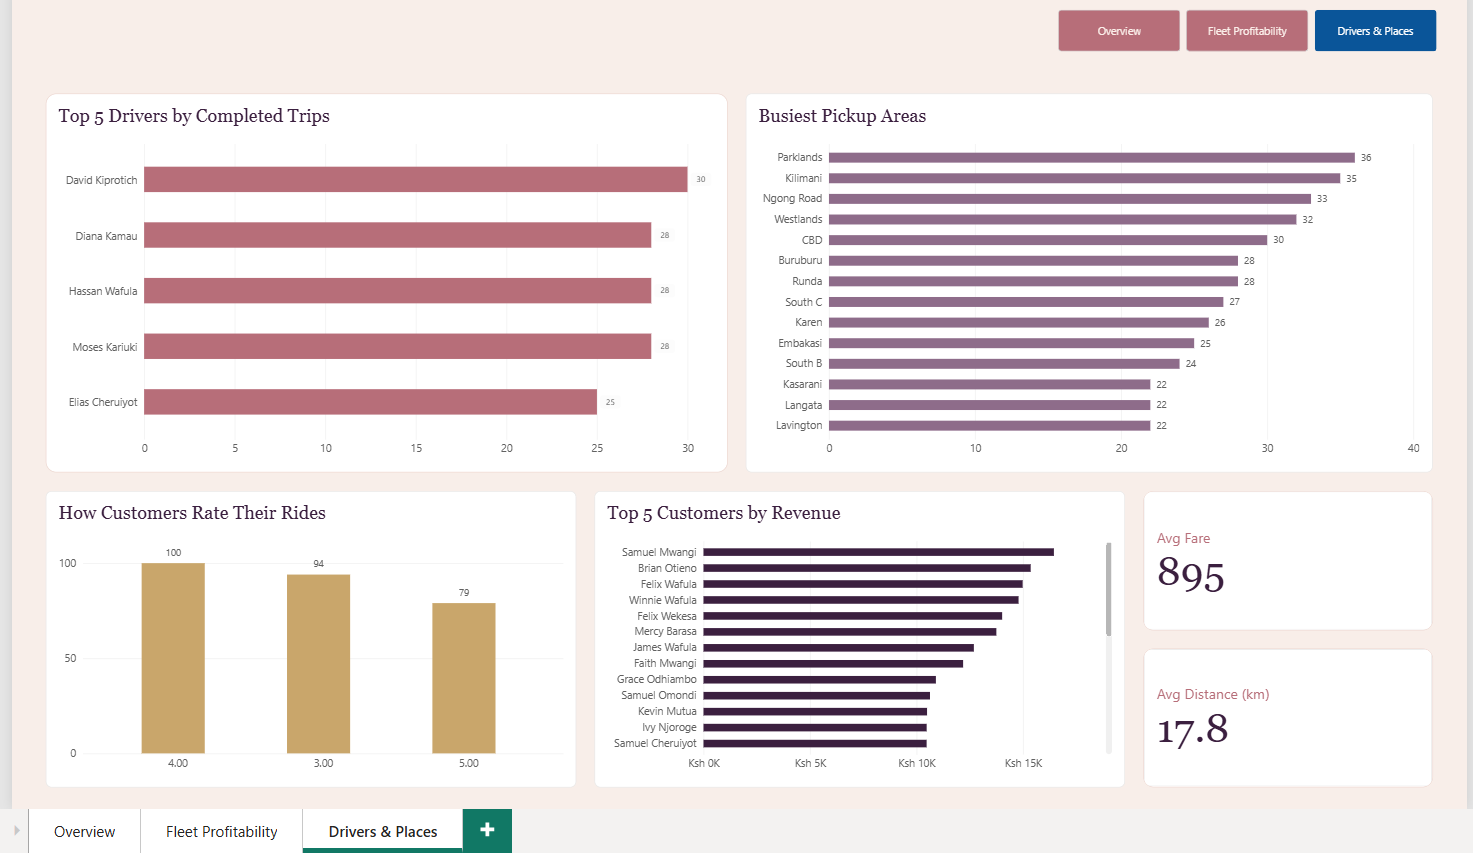

What the dashboard file says about the page in this screenshot:
{"tool":"powerbi","page":{"name":"Drivers & Places","canvas":[1920,1080],"ordinal":2},"visuals":[{"type":"clusteredBarChart","title":"Top 5 Drivers by Completed Trips","fields":{"Category":["haraka_booking drivers.driver_name"],"Y":["haraka_booking customers.Completed Trips"]},"box":[45,135,900,500],"z":0},{"type":"clusteredBarChart","title":"Busiest Pickup Areas","fields":{"Category":["haraka_booking trips.pickup_area"],"Y":["haraka_booking customers.Total Trips"]},"box":[969,135,906,500],"z":1},{"type":"clusteredColumnChart","title":"How Customers Rate Their Rides","fields":{"Category":["haraka_booking trips.customer_rating"],"Y":["haraka_booking customers.Total Trips"]},"box":[45,659,700,391],"z":2},{"type":"clusteredBarChart","title":"Top 5 Customers by Revenue","fields":{"Category":["haraka_booking customers.customer_name"],"Y":["haraka_booking customers.Revenue"]},"box":[769,659,700,391],"z":3},{"type":"cardVisual","fields":{"Data":["haraka_booking customers.Avg Fare"]},"box":[1493,659,382,184],"z":4},{"type":"cardVisual","fields":{"Data":["Calendar.Avg Distance (km)"]},"box":[1493,867,382,183],"z":5},{"type":"pageNavigator","box":[1380,25,500,55],"z":6}]}

Visuals, with their boxes on the page's 1920x1080 design canvas (x1, y1, x2, y2). These are canvas units, not pixel positions in the 1473x853 screenshot, which may show the page scaled, cropped or inside an application window:
"Top 5 Drivers by Completed Trips" clusteredBarChart: Rect(45, 135, 945, 635)
"Busiest Pickup Areas" clusteredBarChart: Rect(969, 135, 1875, 635)
"How Customers Rate Their Rides" clusteredColumnChart: Rect(45, 659, 745, 1050)
"Top 5 Customers by Revenue" clusteredBarChart: Rect(769, 659, 1469, 1050)
cardVisual - haraka_booking customers.Avg Fare: Rect(1493, 659, 1875, 843)
cardVisual - Calendar.Avg Distance (km): Rect(1493, 867, 1875, 1050)
pageNavigator: Rect(1380, 25, 1880, 80)
